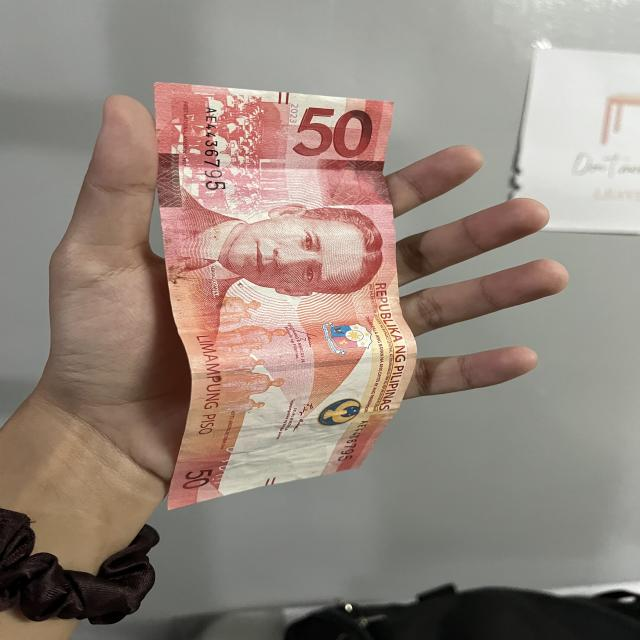concealed_value: (319, 158, 396, 206)
value: (277, 98, 380, 168)
